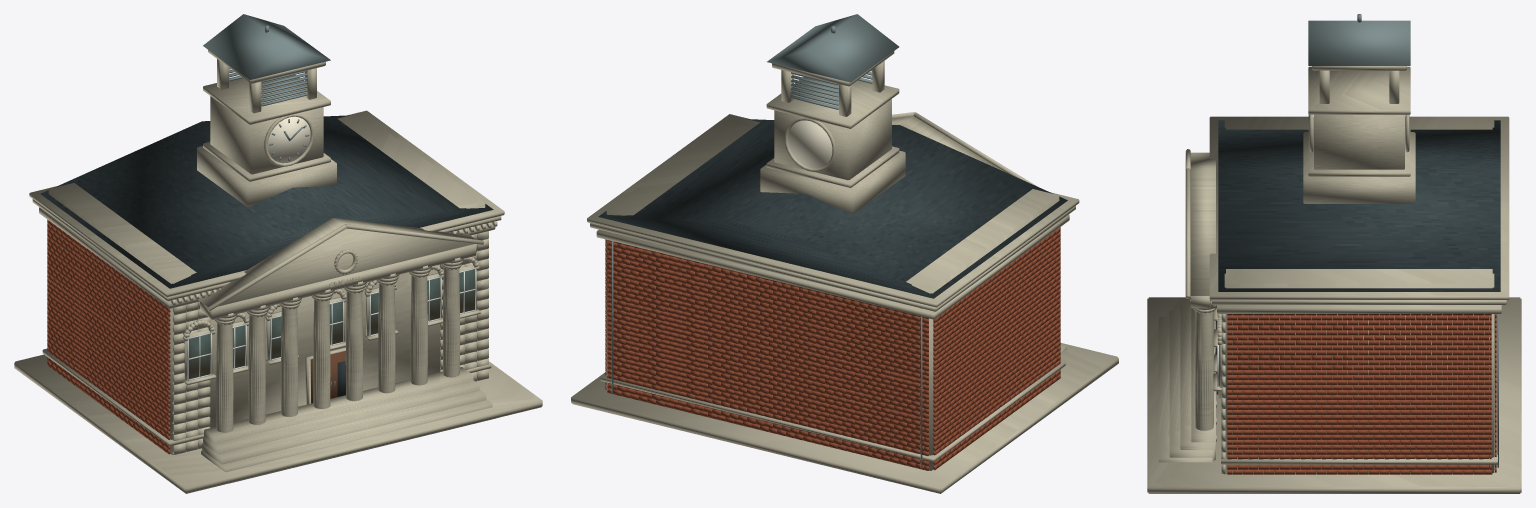
The picture shows the model from 3 angles, left to right: view 1: azimuth 30°, elevation 25°; view 2: azimuth 150°, elevation 25°; view 3: azimuth 270°, elevation 25°; orthographic projection. The views are drawn at different scales.
Visible parts, largest first — view 1: town_hall__static_limestone, town_hall__static_slate, town_hall__static_warm_brick, town_hall__static_patinated_metal, town_hall__static_warm_glazing, town_hall__static_civic_pale_painted_trim, town_hall__static_clock_ivory, town_hall__door_01__recessed_entrance_leaf; view 2: town_hall__static_warm_brick, town_hall__static_limestone, town_hall__static_slate, town_hall__static_patinated_metal, town_hall__static_clock_ivory; view 3: town_hall__static_limestone, town_hall__static_warm_brick, town_hall__static_slate, town_hall__static_patinated_metal.
Part boxes in pixels (box(x1,y1,x2,y2)): town_hall__static_limestone: box(14, 50, 542, 493); town_hall__static_slate: box(40, 115, 493, 288); town_hall__static_warm_brick: box(47, 219, 170, 454); town_hall__static_patinated_metal: box(203, 14, 330, 160); town_hall__static_warm_glazing: box(189, 269, 474, 379); town_hall__static_civic_pale_painted_trim: box(187, 268, 476, 380); town_hall__static_clock_ivory: box(267, 116, 310, 163); town_hall__door_01__recessed_entrance_leaf: box(311, 351, 345, 403); town_hall__static_warm_brick: box(605, 227, 1060, 470); town_hall__static_limestone: box(571, 51, 1118, 493); town_hall__static_slate: box(598, 119, 1067, 298); town_hall__static_patinated_metal: box(611, 14, 922, 468); town_hall__static_clock_ivory: box(788, 120, 832, 168); town_hall__static_limestone: box(1147, 66, 1521, 493); town_hall__static_warm_brick: box(1227, 314, 1496, 474); town_hall__static_slate: box(1218, 120, 1500, 291); town_hall__static_patinated_metal: box(1308, 14, 1499, 467).
Size of the model in its own units: 18 by 17 by 15.
Materials: 9 (4 with a texture image).
